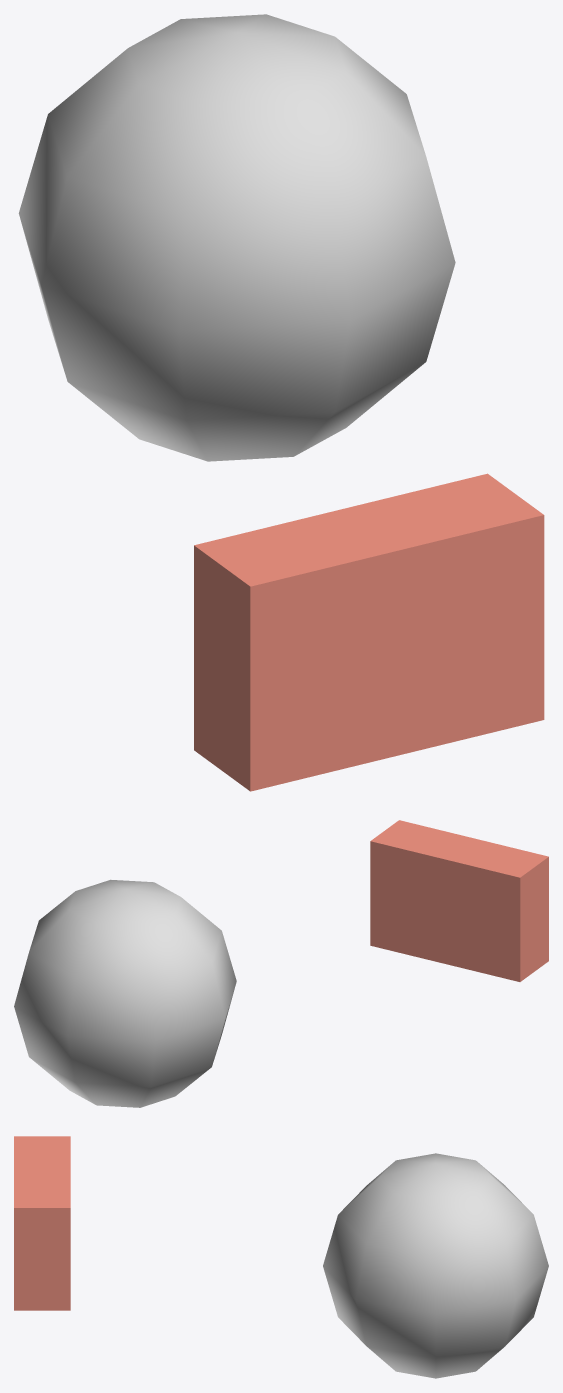
The model's file is pause.glb.
The picture shows the model from 3 angles, top to bottom: view 1: azimuth 30°, elevation 25°; view 2: azimuth 150°, elevation 25°; view 3: azimuth 270°, elevation 25°; orthographic projection. The views are drawn at different scales.
Parts seen in each view (by area): view 1: Sphere, Box; view 2: Sphere, Box; view 3: Sphere, Box.
Part boxes in pixels (bbox=[...]): Sphere: bbox=[18, 14, 455, 461]; Box: bbox=[194, 473, 544, 791]; Sphere: bbox=[14, 879, 236, 1107]; Box: bbox=[370, 820, 548, 981]; Sphere: bbox=[323, 1153, 548, 1378]; Box: bbox=[14, 1136, 70, 1310].
Size of the model in its own units: 3.09 by 2 by 4.73.
